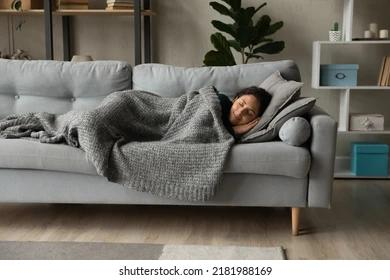blanket: (0, 84, 235, 203)
